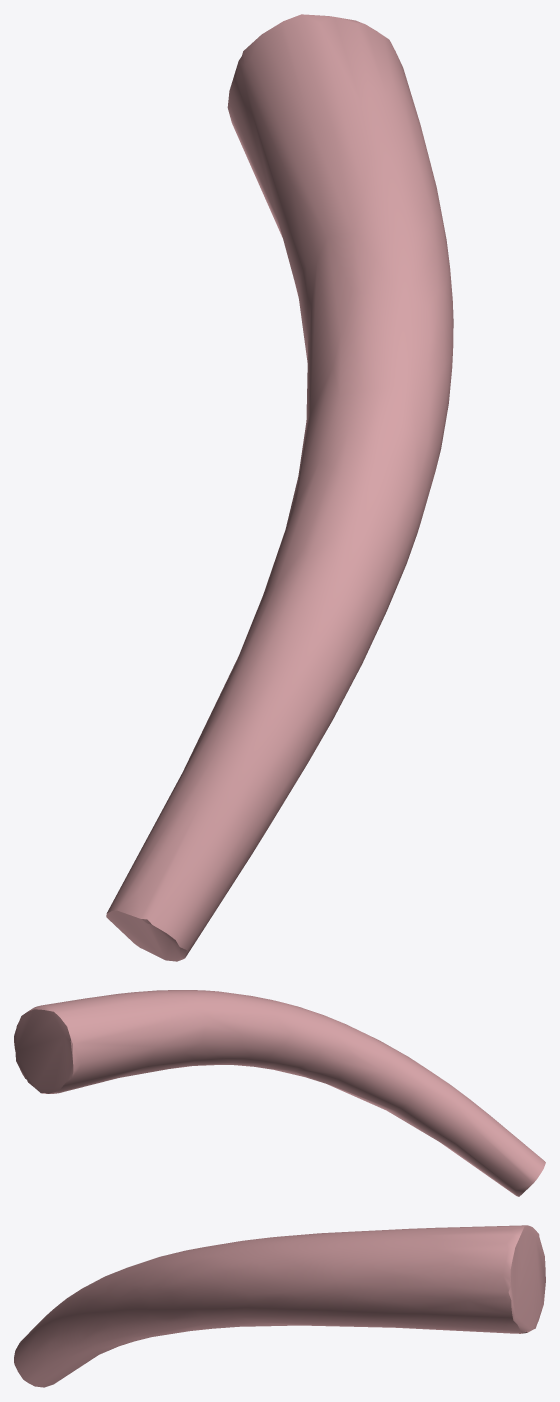
The model's file is fma68212_fj6546.glb.
3 renders of one model, top to bottom at view 1: azimuth 30°, elevation 25°; view 2: azimuth 150°, elevation 25°; view 3: azimuth 270°, elevation 25°, orthographic. The views are drawn at different scales.
Visible parts, largest first — view 1: FMA68212_FJ6546; view 2: FMA68212_FJ6546; view 3: FMA68212_FJ6546.
Boxes of the visible parts, x1,y1,x2,y2 form: FMA68212_FJ6546: (106,14,453,961); FMA68212_FJ6546: (14,990,545,1196); FMA68212_FJ6546: (14,1225,545,1387).
Size of the model in its own units: 0.0172 by 0.0128 by 0.0194.
